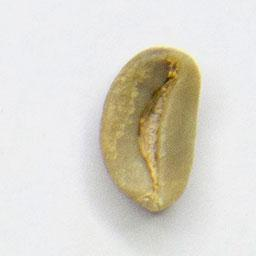longberry: (96, 43, 204, 216)
